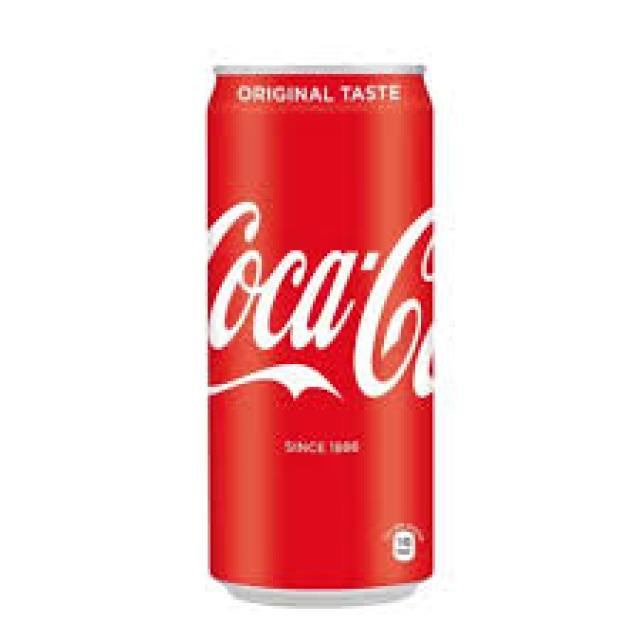metal: (202, 60, 429, 603)
